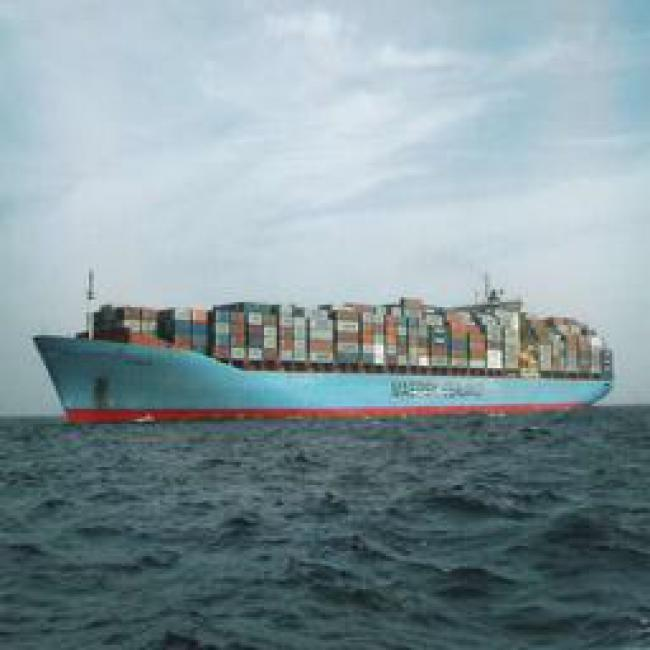Ship: (19, 283, 620, 413)
